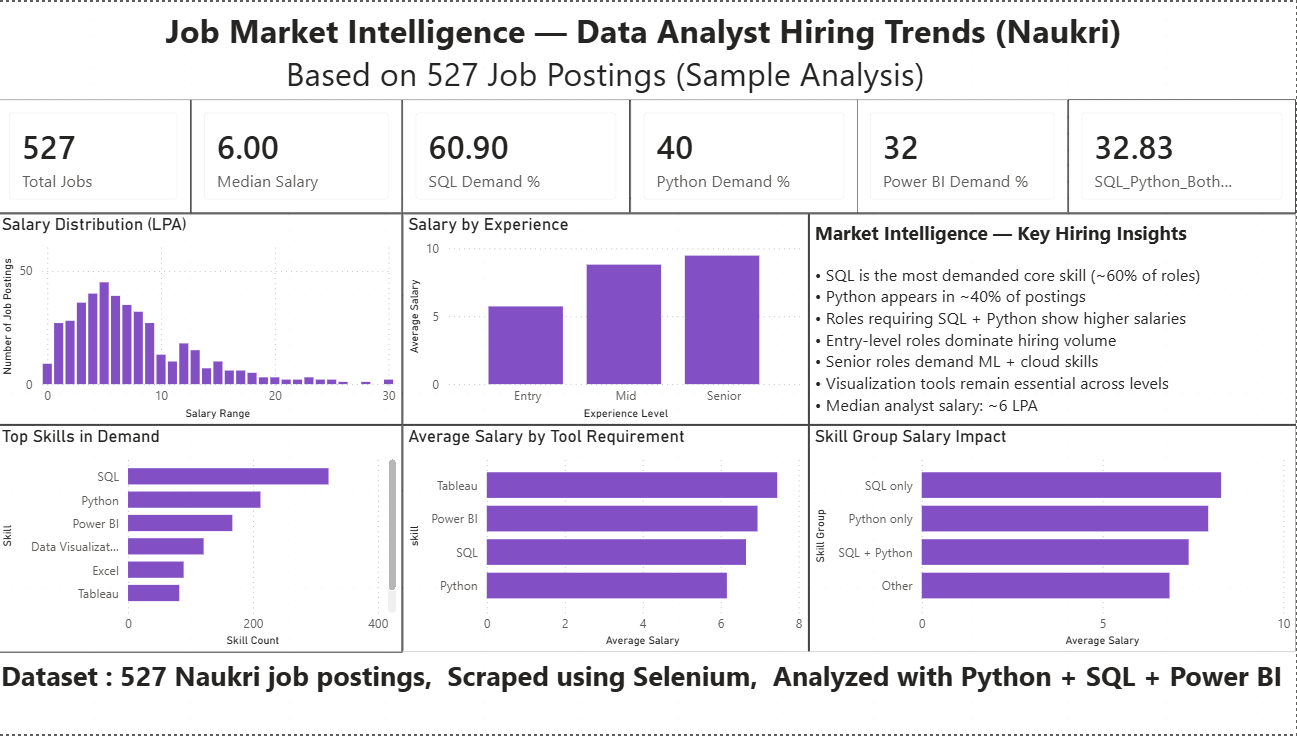

Layout of this report page (visuals, bound fields, positions):
{"tool":"powerbi","page":{"name":"Page 1","canvas":[1280,720],"ordinal":0},"visuals":[{"type":"cardVisual","fields":{"Data":["job_analytics.Total Jobs"]},"box":[0,96,192,112],"z":0},{"type":"cardVisual","fields":{"Data":["job_analytics.Avg Salary"]},"box":[192,96,208,112],"z":1000},{"type":"clusteredColumnChart","title":"Salary by Experience","fields":{"Category":["exp_salary.experience_level"],"Y":["Avg(job_analytics.salary_lpa_min)"]},"box":[400,208,400,208],"z":2000},{"type":"clusteredBarChart","title":"Average Salary by Tool Requirement","fields":{"Y":["Avg(skill_salary.avg_salary)"],"Category":["skill_salary.skill"]},"box":[400,416,400,224],"z":3000},{"type":"cardVisual","fields":{"Data":["skill_demand.SQL Demand %"]},"box":[400,96,224,112],"z":4000},{"type":"cardVisual","fields":{"Data":["skill_demand.Python Demand %"]},"box":[624,96,224,112],"z":5000},{"type":"textbox","box":[800,208,480,208],"z":6000},{"type":"clusteredBarChart","title":"Skill Group Salary Impact","fields":{"Category":["combo_salary.skill_group"],"Y":["Avg(combo_salary.avg_salary)"]},"box":[800,416,480,224],"z":7000},{"type":"cardVisual","fields":{"Data":["skill_demand.Power BI Demand %"]},"box":[848,96,208,112],"z":8000},{"type":"clusteredColumnChart","title":"Salary Distribution (LPA)","fields":{"Category":["job_analytics.salary_lpa_min"],"Y":["job_analytics.Total Jobs"]},"box":[0,208,400,208],"z":9000},{"type":"textbox","box":[0,0,1280,96],"z":10000},{"type":"textbox","box":[0,640,1280,80],"z":11000},{"type":"cardVisual","fields":{"Data":["skill_demand.SQL_Python_Both %"]},"box":[1056,96,224,112],"z":12000},{"type":"clusteredBarChart","title":"Top Skills in Demand","fields":{"Category":["SkillTable.Skill"],"Y":["SkillTable.Skill Count"]},"box":[0,416,400,224],"z":13000}]}

Visuals, with their boxes in screenshot pixels (x1, y1, x2, y2), scaled from the page's 1280x720 canvas onto the 1297x736 screenshot:
cardVisual - job_analytics.Total Jobs: box=[0, 98, 195, 213]
cardVisual - job_analytics.Avg Salary: box=[195, 98, 405, 213]
"Salary by Experience" clusteredColumnChart: box=[405, 213, 811, 425]
"Average Salary by Tool Requirement" clusteredBarChart: box=[405, 425, 811, 654]
cardVisual - skill_demand.SQL Demand %: box=[405, 98, 632, 213]
cardVisual - skill_demand.Python Demand %: box=[632, 98, 859, 213]
textbox: box=[811, 213, 1296, 425]
"Skill Group Salary Impact" clusteredBarChart: box=[811, 425, 1296, 654]
cardVisual - skill_demand.Power BI Demand %: box=[859, 98, 1070, 213]
"Salary Distribution (LPA)" clusteredColumnChart: box=[0, 213, 405, 425]
textbox: box=[0, 0, 1296, 98]
textbox: box=[0, 654, 1296, 735]
cardVisual - skill_demand.SQL_Python_Both %: box=[1070, 98, 1296, 213]
"Top Skills in Demand" clusteredBarChart: box=[0, 425, 405, 654]
